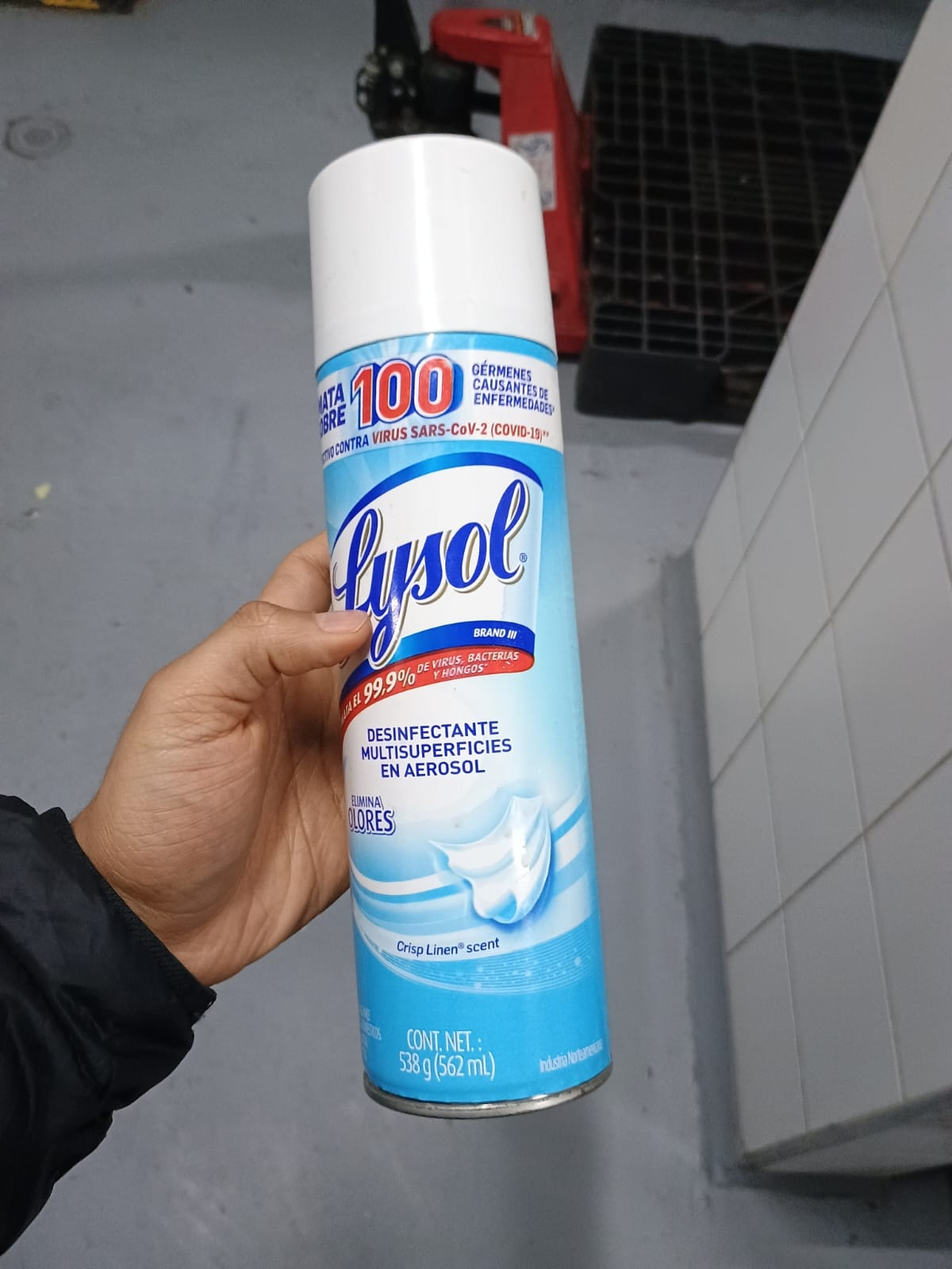Metal: (310, 336, 611, 1119)
Plastico: (303, 140, 558, 336)
